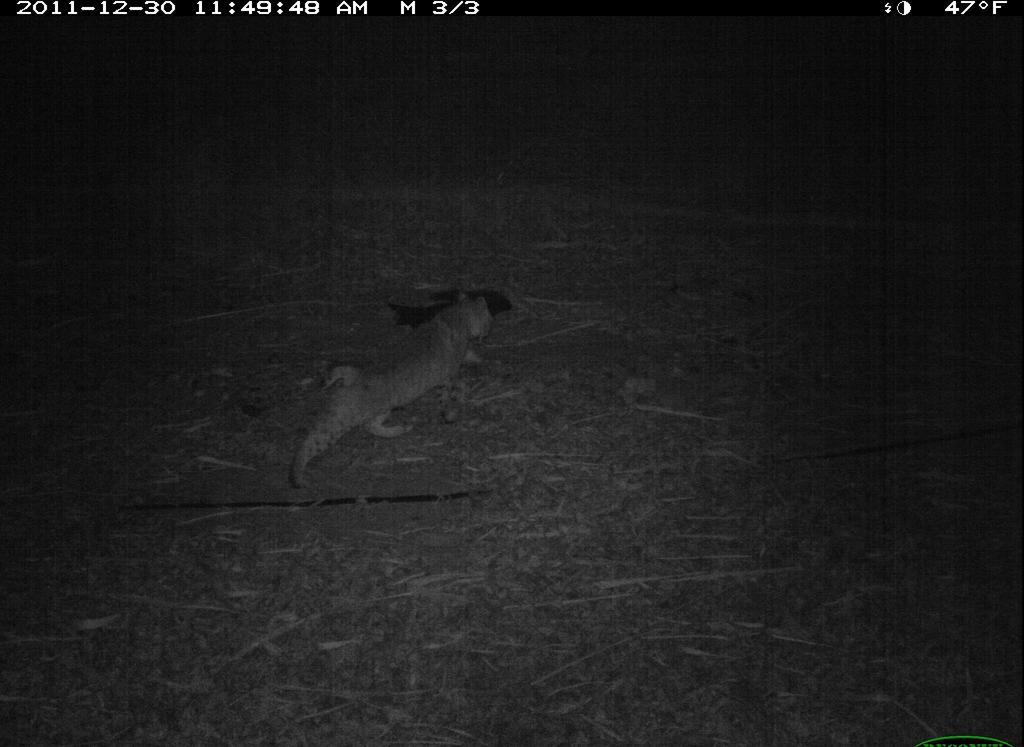bobcat: (286, 289, 498, 491)
